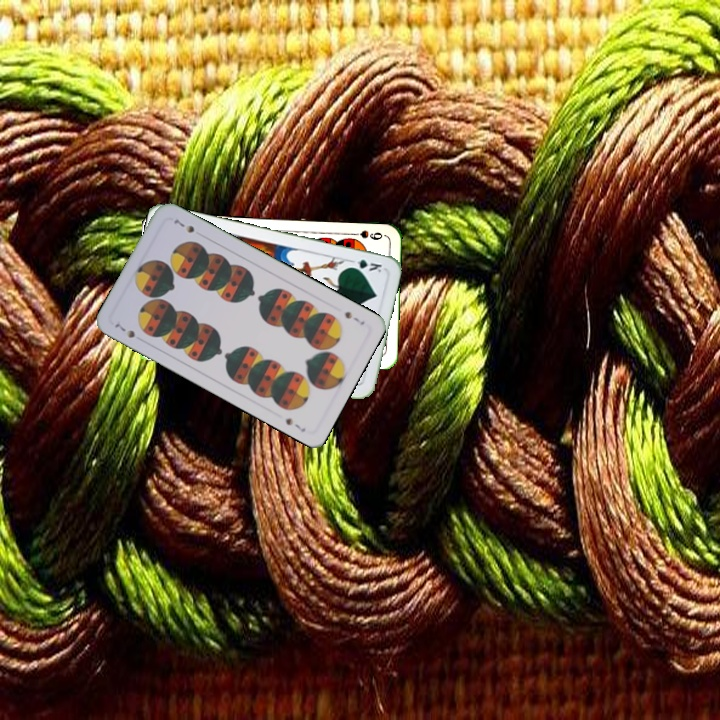GK: (344, 255, 384, 275)
S7: (110, 318, 138, 341), (341, 307, 367, 328)
S9: (345, 226, 385, 243)
